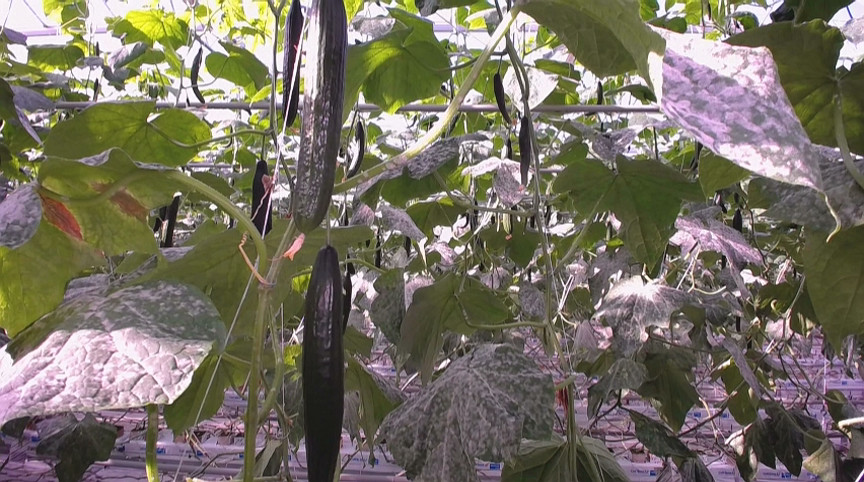cucumber: (293, 1, 350, 231), (304, 248, 343, 482), (249, 162, 274, 232)
